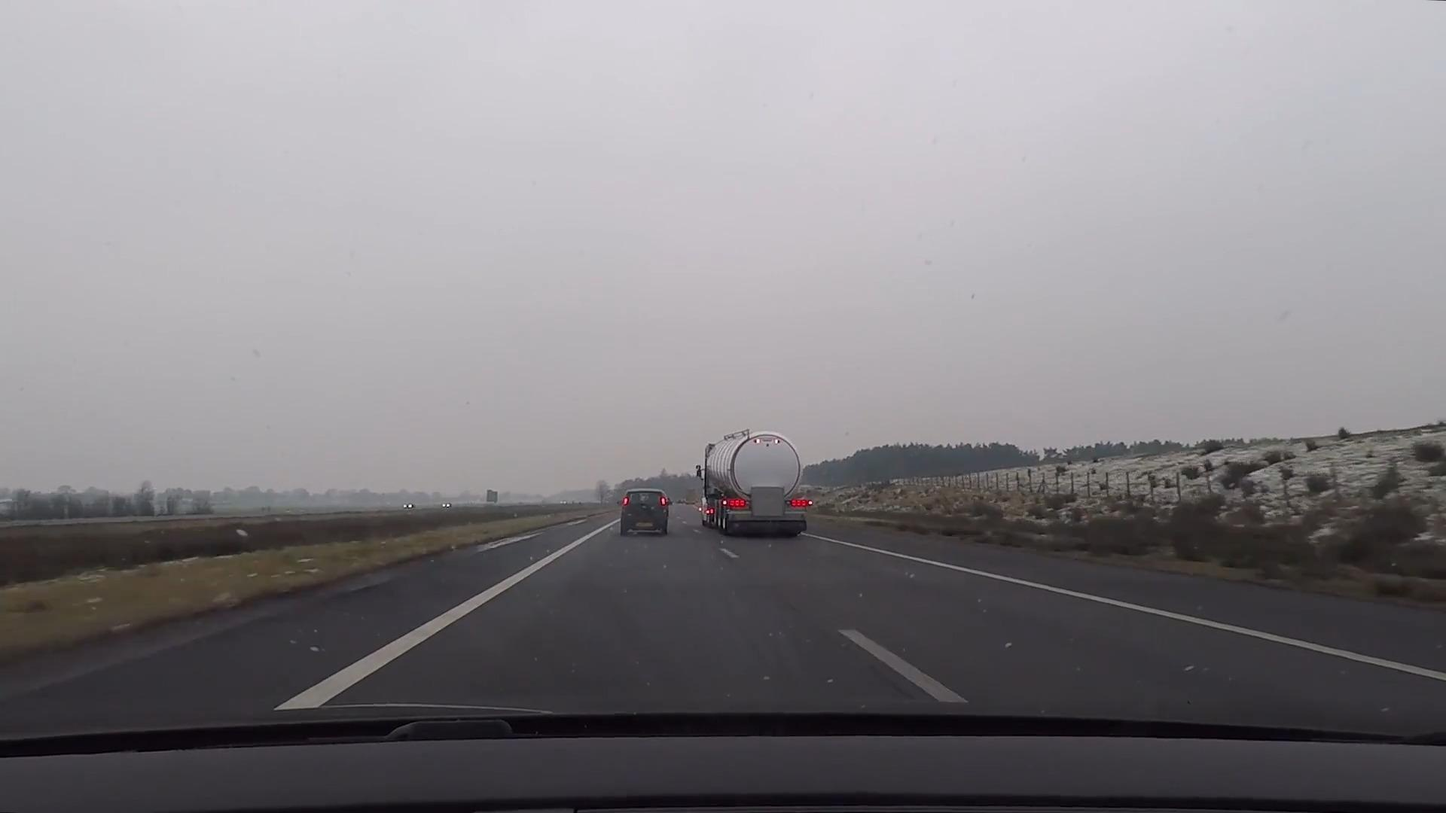Ice: (0, 505, 1446, 735)
